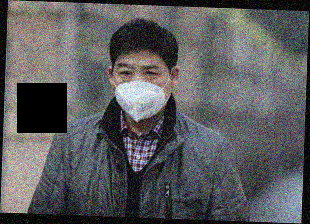with_mask: (112, 61, 172, 122)
